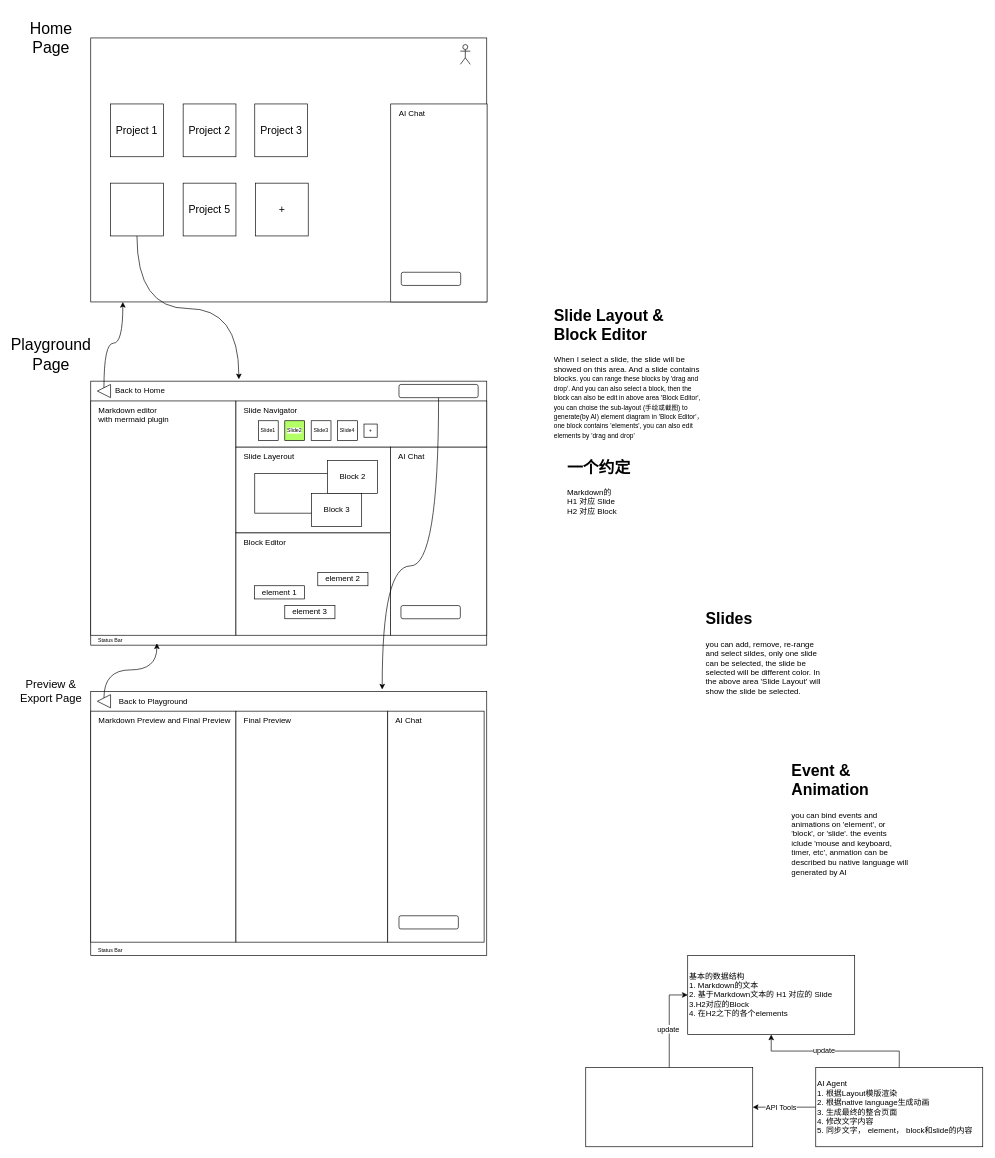
The diagram is 995 pixels wide and 1158 high, and some of its shapes have lost their labels. Here are the shapes that lost their labels. From the top down, the centre of each, then its label:
At [465,54]: "Sign in/Up Profile Plan".
At [136,209]: "Project 4".
At [438,391]: "Preview & Export".
At [294,493]: "Block 1".
At [669,1107]: "传统软件的服务 1. markdown的编辑和Preview 2. drag and drop的操作 3. element、block和slide的增删等操作".
